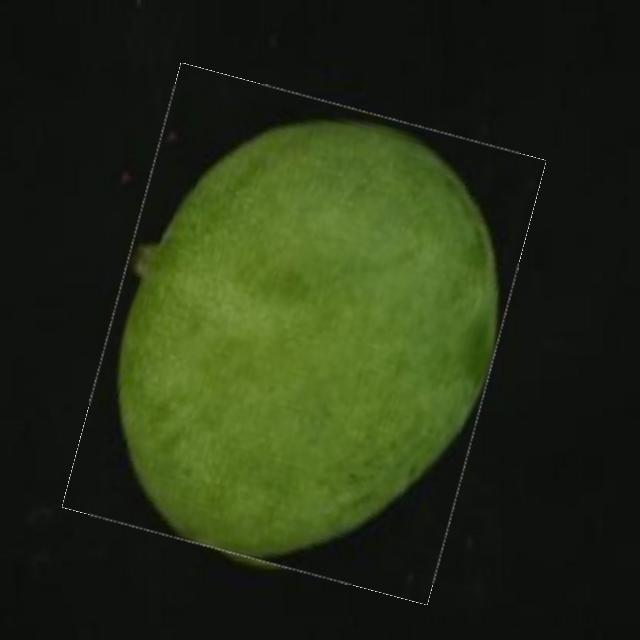mango: (89, 84, 519, 585)
